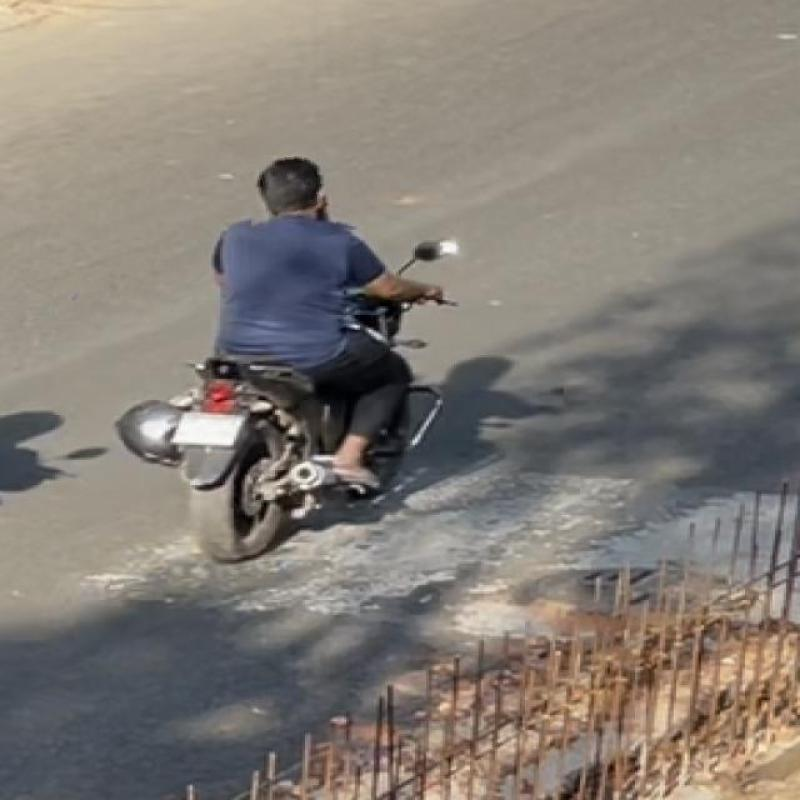nohelmet: (245, 132, 364, 238)
